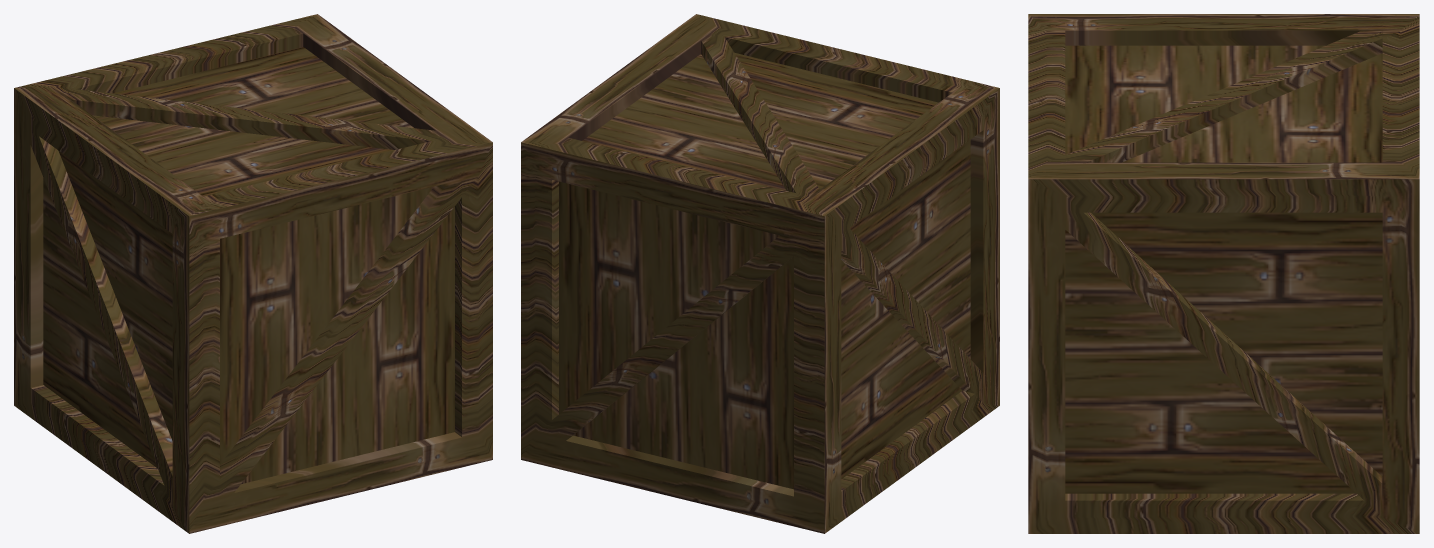
The model's file is crate.fbx.
The picture shows the model from 3 angles, left to right: view 1: azimuth 30°, elevation 25°; view 2: azimuth 150°, elevation 25°; view 3: azimuth 270°, elevation 25°; orthographic projection. The views are drawn at different scales.
Parts seen in each view (by area): view 1: Crate; view 2: Crate; view 3: Crate.
Boxes of the visible parts, x1,y1,x2,y2 form: Crate: (14, 14, 492, 533); Crate: (521, 14, 999, 533); Crate: (1028, 14, 1419, 533).
Bounding box in the file's own units: 83.93 × 83.93 × 83.93.
